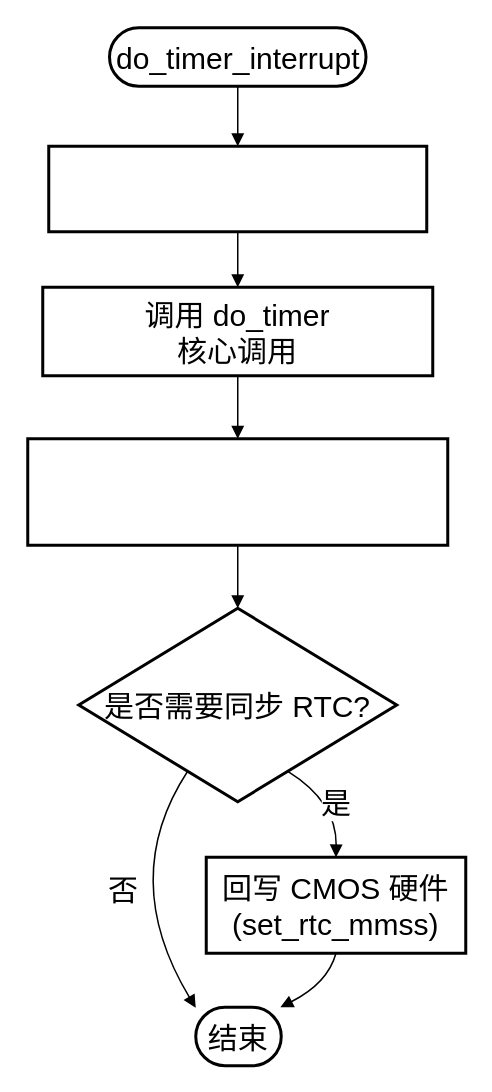
Some shapes in this 492 by 1092 pixel diagram are drawn without their labels. Here are the shapes that lost their labels. From the top down, the centre of each, then its label:
At point (237, 188): "硬件应答 (ACK) 通知中断控制器已收到信号".
At point (237, 491): "性能分析 (Profiling) 记录 CPU 刚才在哪行代码运行".
